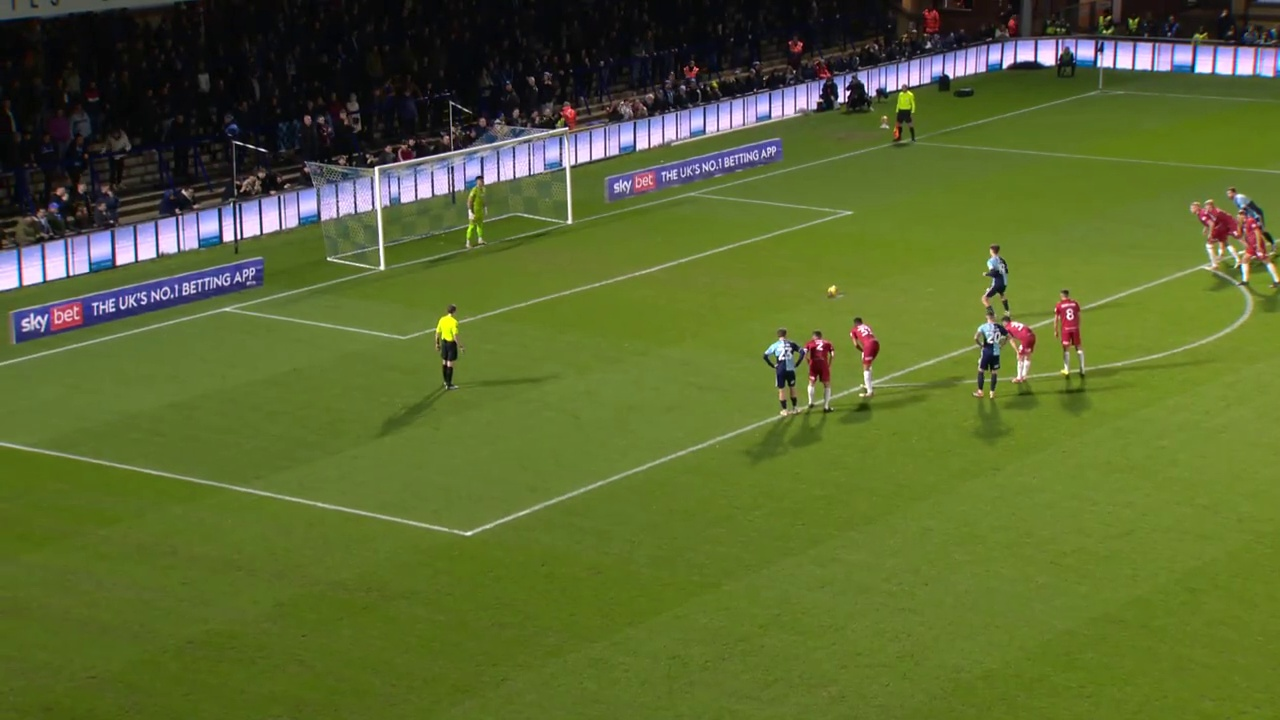ball: (920, 343, 943, 366)
